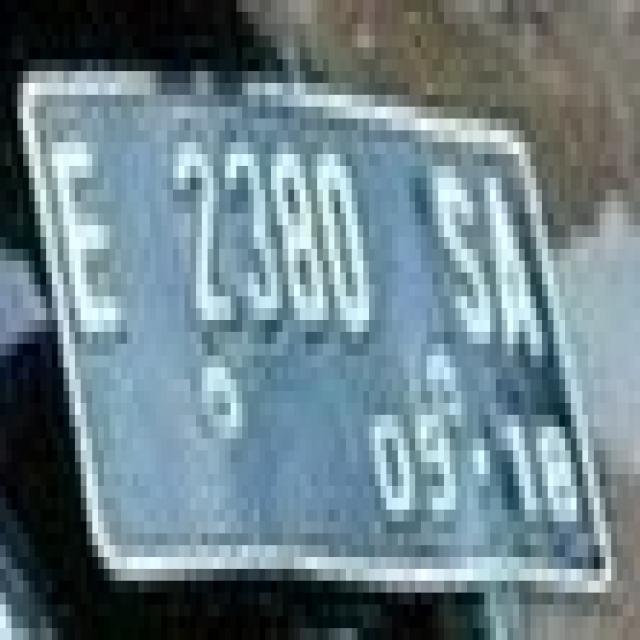plate: (12, 47, 611, 581)
